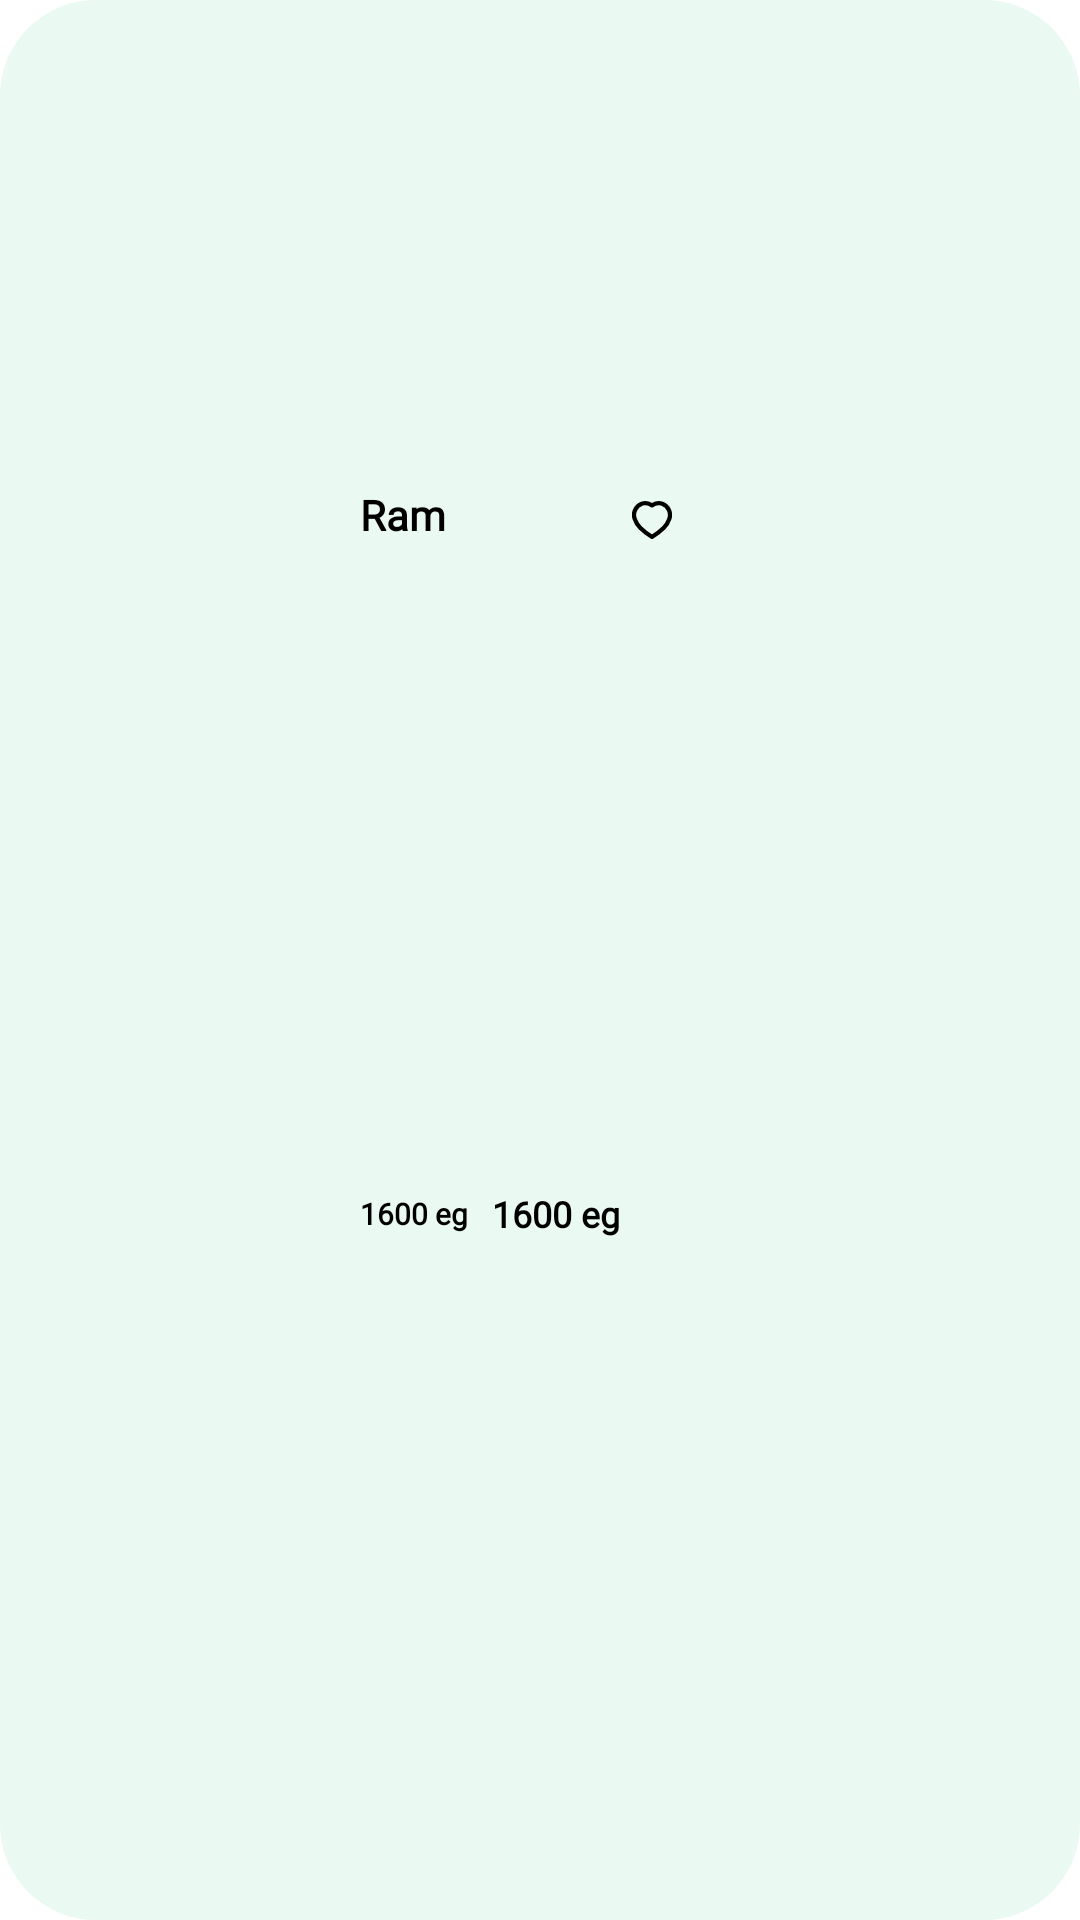

Screen size 1080x1920. Icon name, then its center in pixels as [x,y]:
favorite: [652,520]
